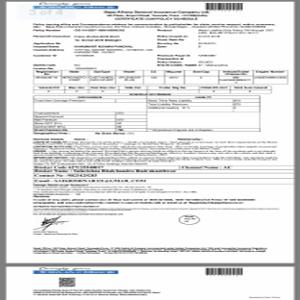table: (33, 95, 261, 133), (33, 71, 289, 84), (34, 85, 272, 94)
text: (31, 22, 281, 71), (29, 137, 279, 162), (31, 244, 272, 256), (103, 9, 214, 21)
